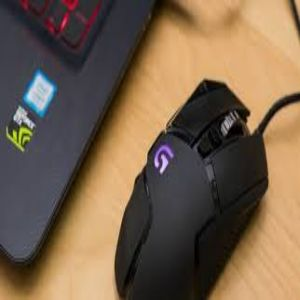mouse: (110, 56, 266, 299)
